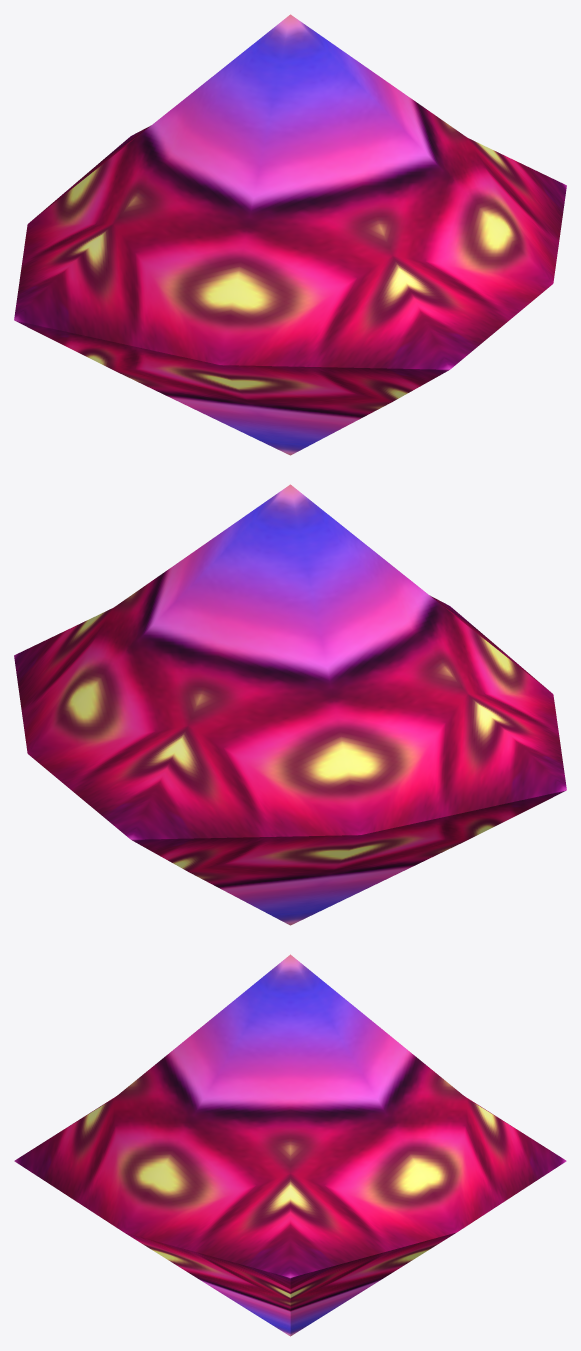
Rendered from misc-02.fbx.
3 views of the same model, one above another, from view 1: azimuth 30°, elevation 25°; view 2: azimuth 150°, elevation 25°; view 3: azimuth 270°, elevation 25° (orthographic). The views are drawn at different scales.
Parts seen in each view (by area): view 1: misc-02; view 2: misc-02; view 3: misc-02.
Part boxes in pixels (x1=…): misc-02: x1=14, y1=14, x2=566, y2=455; misc-02: x1=14, y1=484, x2=566, y2=925; misc-02: x1=14, y1=954, x2=566, y2=1336.
Bounding box in the file's own units: 37.24 × 28.4 × 37.24.
